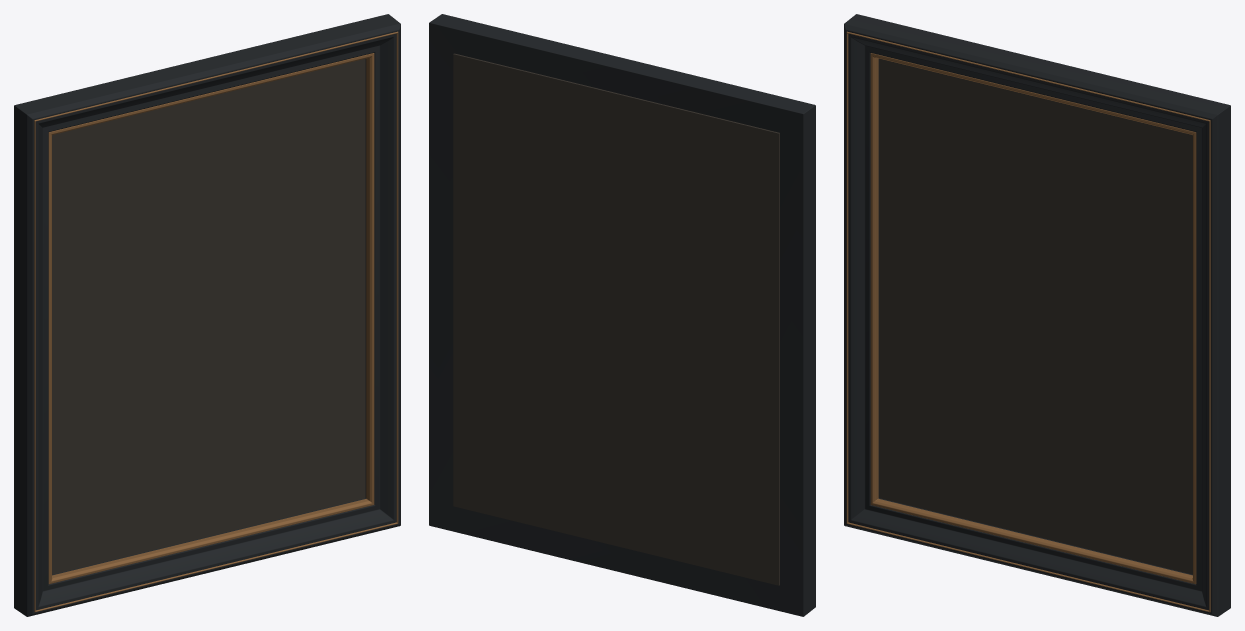
File: charcoal-frame-only.glb
The picture shows the model from 3 angles, left to right: view 1: azimuth 30°, elevation 25°; view 2: azimuth 150°, elevation 25°; view 3: azimuth 330°, elevation 25°; orthographic projection.
Parts seen in each view (by area): view 1: Rigid backing panel, Charcoal stepped molding, Antique gold inner lip, Fine gold outer bead; view 2: Rigid backing panel, Charcoal stepped molding; view 3: Rigid backing panel, Charcoal stepped molding, Antique gold inner lip, Fine gold outer bead.
Boxes of the visible parts, x1,y1,x2,y2 form: Rigid backing panel: (52,58,365,574); Charcoal stepped molding: (14,14,400,616); Antique gold inner lip: (48,53,374,584); Fine gold outer bead: (34,31,398,612); Rigid backing panel: (453,53,779,585); Charcoal stepped molding: (429,14,815,616); Rigid backing panel: (879,58,1192,574); Charcoal stepped molding: (844,14,1230,616); Antique gold inner lip: (870,53,1196,584); Fine gold outer bead: (846,31,1210,612).
Bounding box in the file's own units: 1.06 × 1.36 × 0.0762.
